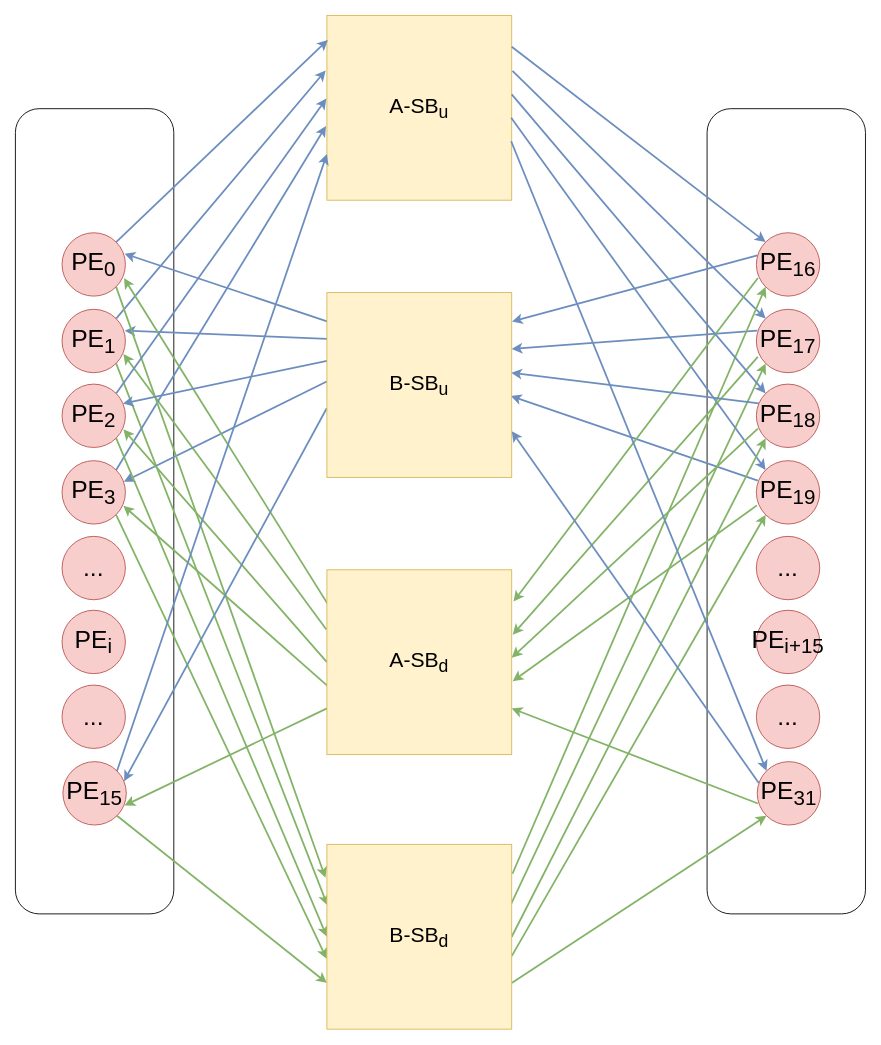
This 881x1045 diagram has some shape labels left out. Here are the shapes that lost their labels. From the top down, the box of each, then its label:
(15, 108, 174, 914): Computation Block - 0
(706, 108, 865, 914): Computation Block - 1
